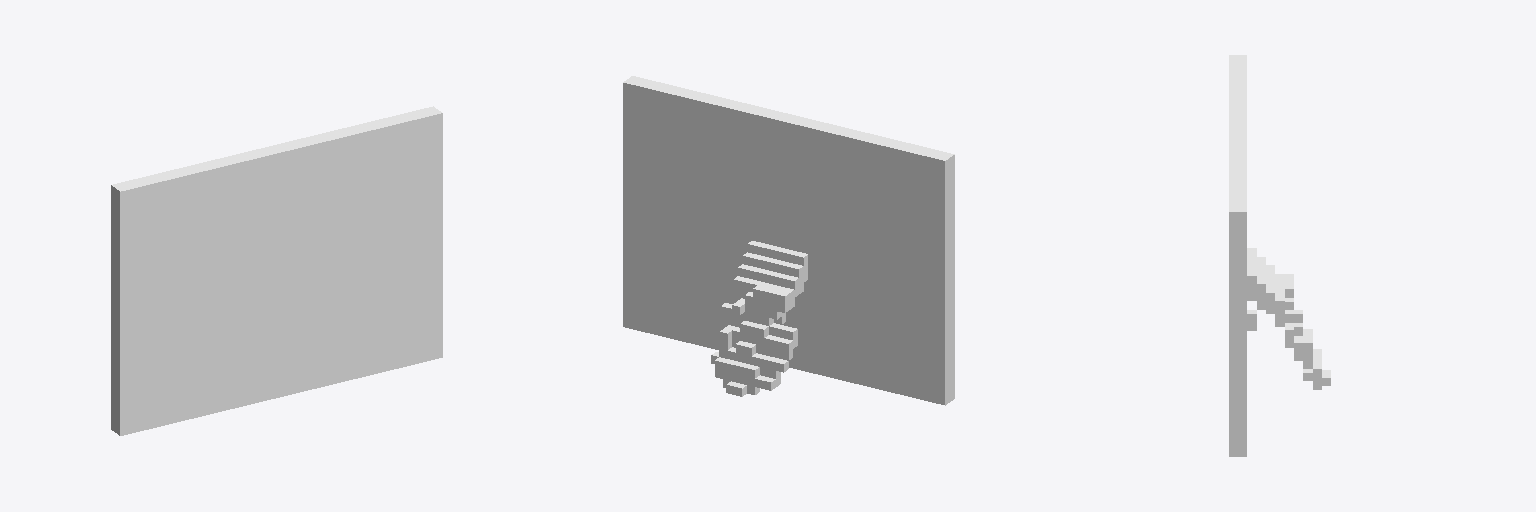
Rendered from photoDog.obj.
3 renders of one model, left to right at view 1: azimuth 30°, elevation 25°; view 2: azimuth 150°, elevation 25°; view 3: azimuth 270°, elevation 25°, orthographic.
Parts seen in each view (by area): view 1: object 1; view 2: object 1; view 3: object 1.
Part boxes in pixels (bbox=[...]): object 1: bbox=[111, 106, 442, 435]; object 1: bbox=[623, 76, 954, 405]; object 1: bbox=[1229, 55, 1330, 456].
Bounding box in the file's own units: 4 × 2.9 × 1.1.